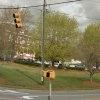Traffic light: (8, 7, 26, 33)
